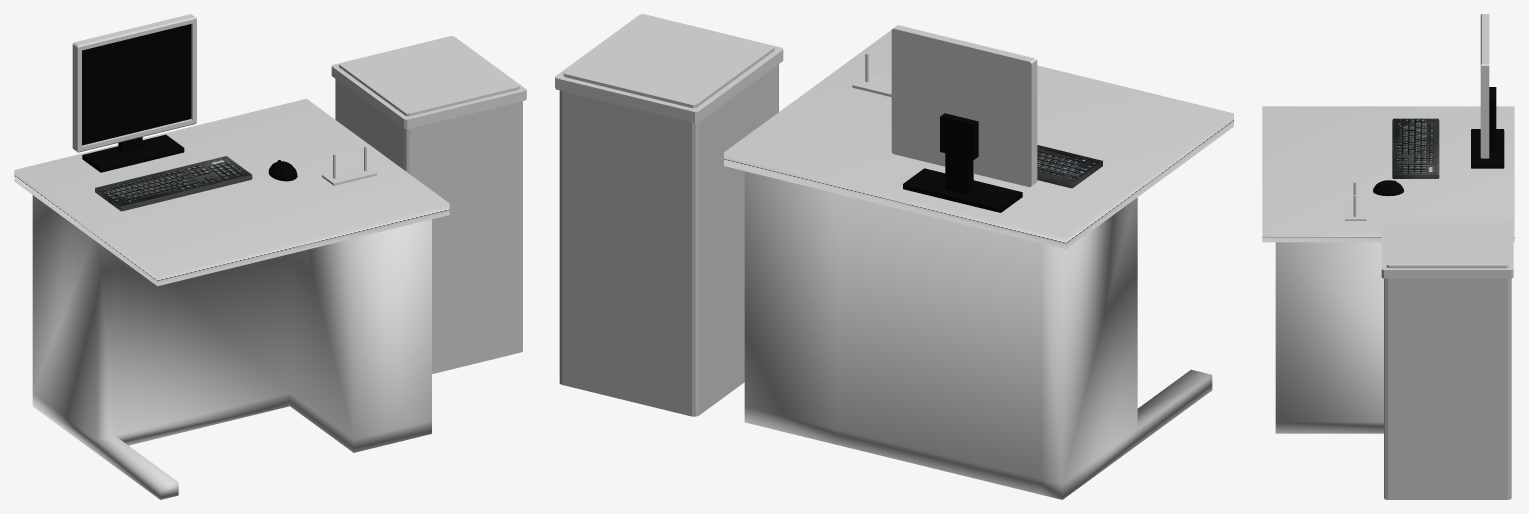
3 views of the same model, side by side, from view 1: azimuth 30°, elevation 25°; view 2: azimuth 150°, elevation 25°; view 3: azimuth 270°, elevation 25° (orthographic). The views are drawn at different scales.
Parts seen in each view (by area): view 1: 立方體, 立方體.001, 立方體.003, 立方體.004, 立方體.007, 立方體.002, 立方體.005, 立方體.008, 立方體.006; view 2: 立方體, 立方體.003, 立方體.001, 立方體.005, 立方體.004, 立方體.008, 立方體.002; view 3: 立方體.003, 立方體.001, 立方體, 立方體.004, 立方體.002, 立方體.008, 立方體.005, 立方體.006, 球體.
Part boxes in pixels (left/top/right/bottom): 立方體: left=32, top=195, right=431, bottom=499; 立方體.001: left=14, top=98, right=449, bottom=286; 立方體.003: left=335, top=79, right=522, bottom=373; 立方體.004: left=331, top=36, right=526, bottom=129; 立方體.007: left=82, top=24, right=191, bottom=145; 立方體.002: left=95, top=156, right=252, bottom=211; 立方體.005: left=72, top=14, right=196, bottom=152; 立方體.008: left=82, top=134, right=184, bottom=172; 立方體.006: left=322, top=146, right=377, bottom=185; 立方體: left=744, top=171, right=1212, bottom=499; 立方體.003: left=559, top=64, right=778, bottom=416; 立方體.001: left=724, top=30, right=1233, bottom=249; 立方體.005: left=891, top=25, right=1037, bottom=187; 立方體.004: left=555, top=14, right=783, bottom=123; 立方體.008: left=903, top=113, right=1022, bottom=212; 立方體.002: left=1037, top=145, right=1102, bottom=188; 立方體.003: left=1384, top=278, right=1511, bottom=499; 立方體.001: left=1262, top=106, right=1514, bottom=242; 立方體: left=1275, top=242, right=1383, bottom=433; 立方體.004: left=1381, top=217, right=1513, bottom=278; 立方體.002: left=1392, top=118, right=1439, bottom=178; 立方體.008: left=1471, top=87, right=1504, bottom=168; 立方體.005: left=1480, top=14, right=1489, bottom=158; 立方體.006: left=1345, top=181, right=1366, bottom=220; 球體: left=1373, top=180, right=1403, bottom=196.
Size of the model in its own units: 150 by 118 by 85.
